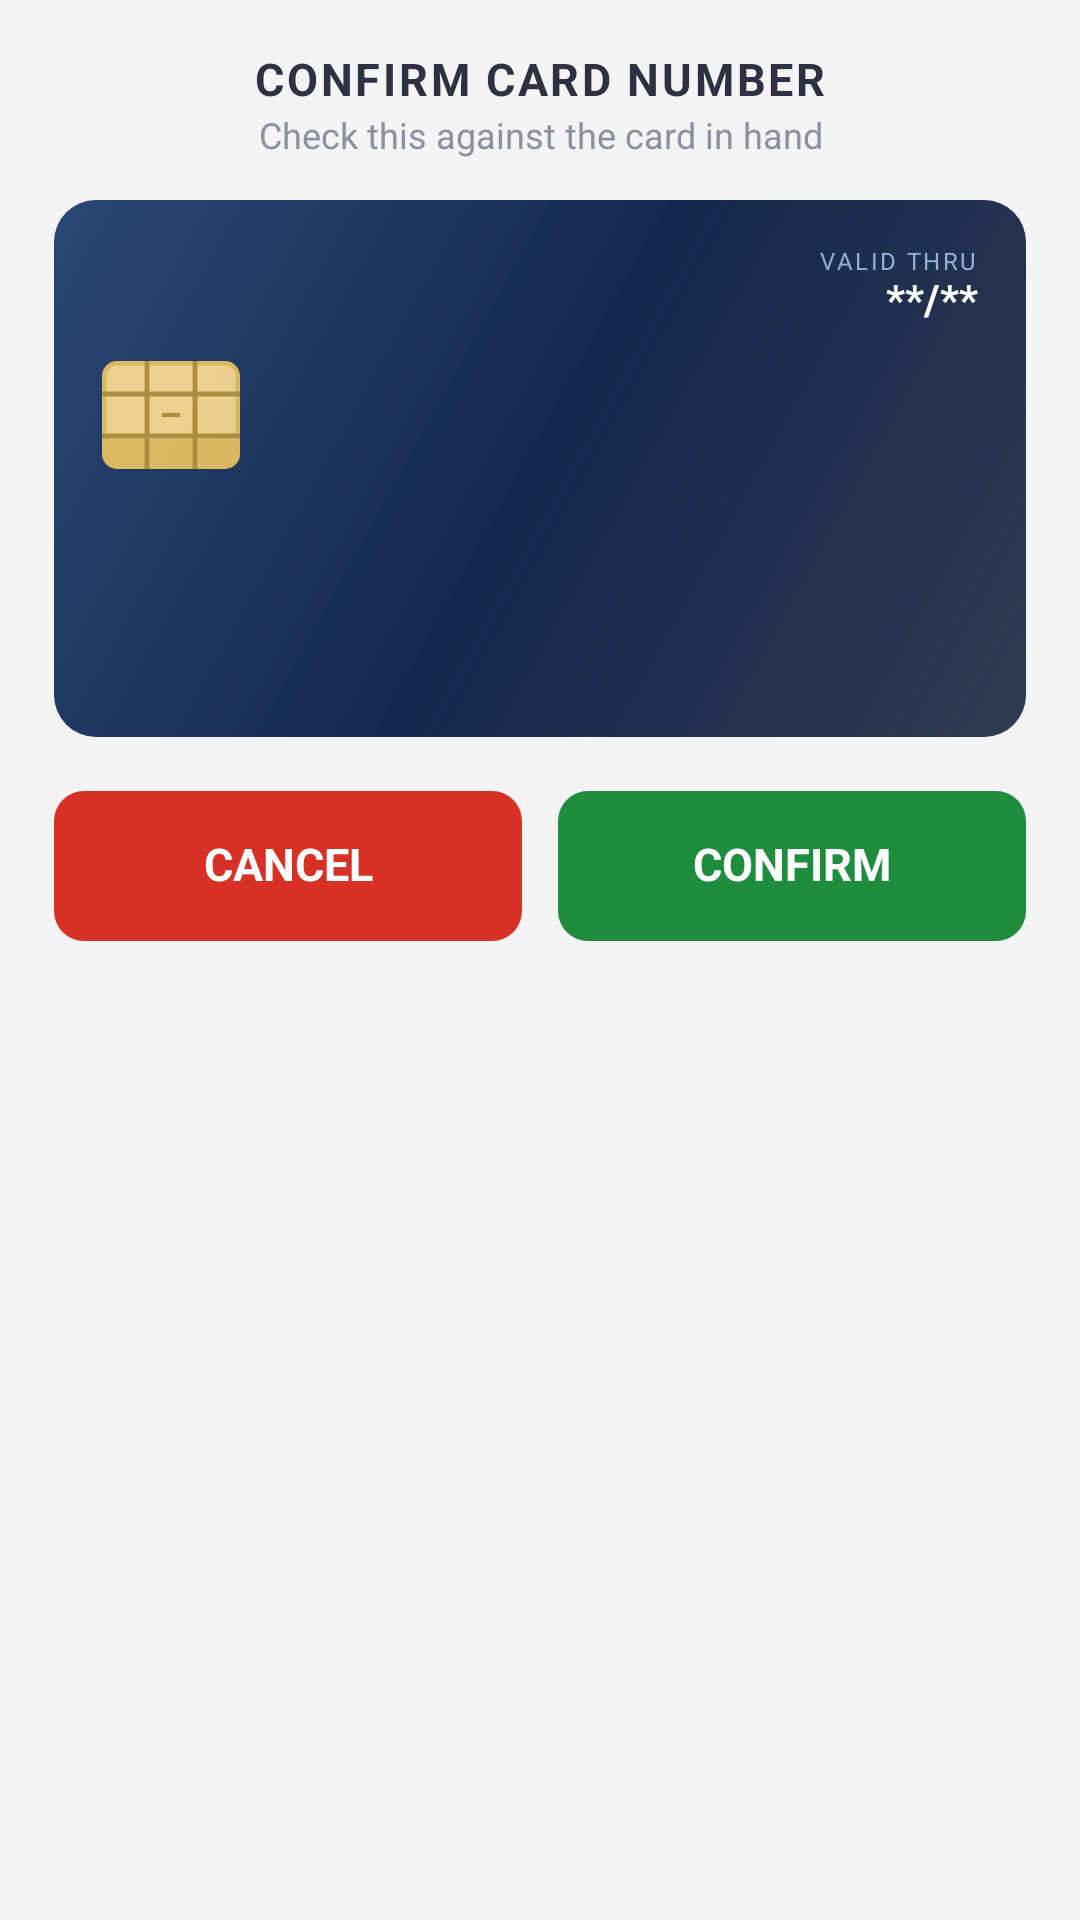

Screen size 1080px×1920px. Icon name, then its center in pixels as (x,y):
emv chip: (171,415)
